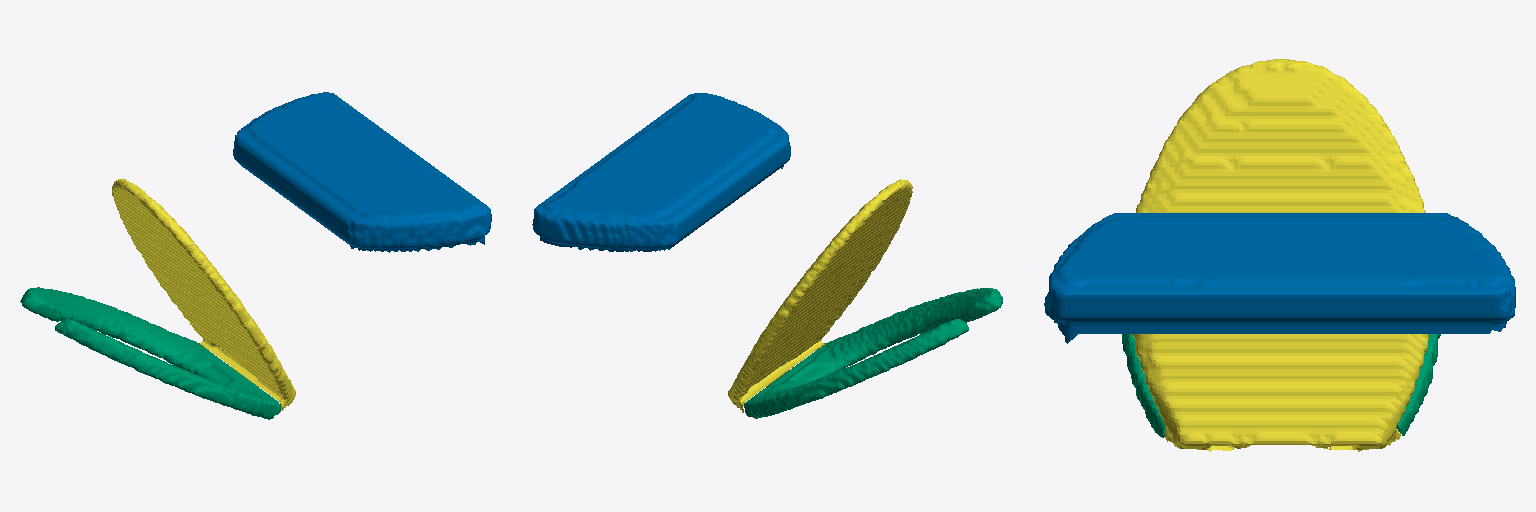
robot.urdf — object:
<?xml version='1.0' encoding='utf-8'?>
<robot name="object">
  <link name="base">
    <inertial>
      <origin xyz="0 0 0" rpy="0 0 0" />
      <mass value="0.0" />
      <inertia ixx="0" ixy="0" ixz="0" iyy="0" iyz="0" izz="0" />
    </inertial>
  </link>
  <link name="link_1">
    <visual>
      <origin xyz="0 0 0" rpy="0 0 0" />
      <geometry>
        <mesh filename="meshes/link_1.stl" />
      </geometry>
    </visual>
    <collision>
      <origin xyz="0 0 0" rpy="0 0 0" />
      <geometry>
        <mesh filename="meshes/link_1.stl" />
      </geometry>
    </collision>
    <inertial>
      <origin xyz="0.0679376867 0.00297495771 -0.0174413585" rpy="0 0 0" />
      <mass value="411.995997" />
      <inertia ixx="77.7488634" ixy="-0.0692758181" ixz="-46.1805513" iyy="131.882674" iyz="-0.112178406" izz="86.9368796" />
    </inertial>
  </link>
  <link name="link_2">
    <visual>
      <origin xyz="-0.0423056701 0.000213782705 -0.0876036963" rpy="0 0 0" />
      <geometry>
        <mesh filename="meshes/link_2.stl" />
      </geometry>
    </visual>
    <collision>
      <origin xyz="-0.0423056701 0.000213782705 -0.0876036963" rpy="0 0 0" />
      <geometry>
        <mesh filename="meshes/link_2.stl" />
      </geometry>
    </collision>
    <inertial>
      <origin xyz="-0.359364826 0.00479776968 0.17011146" rpy="0 0 0" />
      <mass value="11.7321902" />
      <inertia ixx="0.812622318" ixy="-0.00121796596" ixz="0.355917072" iyy="0.785989238" iyz="0.00170550107" izz="1.2086571" />
    </inertial>
  </link>
  <link name="link_3">
    <visual>
      <origin xyz="-0.0700806833 -0.00585808732 -0.0880001275" rpy="0 0 0" />
      <geometry>
        <mesh filename="meshes/link_3.stl" />
      </geometry>
    </visual>
    <collision>
      <origin xyz="-0.0700806833 -0.00585808732 -0.0880001275" rpy="0 0 0" />
      <geometry>
        <mesh filename="meshes/link_3.stl" />
      </geometry>
    </collision>
    <inertial>
      <origin xyz="-0.186050777 -8.34069037e-05 0.327565965" rpy="0 0 0" />
      <mass value="23.035374" />
      <inertia ixx="0.246236957" ixy="-0.000484243372" ixz="-0.00469277478" iyy="-0.0433521147" iyz="0.009349146" izz="0.934786138" />
    </inertial>
  </link>
  <link name="link_4">
    <visual>
      <origin xyz="-0.426424517 0.000165591769 -0.618794232" rpy="0 0 0" />
      <geometry>
        <mesh filename="meshes/link_4.stl" />
      </geometry>
    </visual>
    <collision>
      <origin xyz="-0.426424517 0.000165591769 -0.618794232" rpy="0 0 0" />
      <geometry>
        <mesh filename="meshes/link_4.stl" />
      </geometry>
    </collision>
    <inertial>
      <origin xyz="-0.0279613447 0.00375537023 2.83223144" rpy="0 0 0" />
      <mass value="49.3769836" />
      <inertia ixx="-183465.905" ixy="0.0120543716" ixz="4.81793815" iyy="-183468.478" iyz="1.46445279" izz="3.76805256" />
    </inertial>
  </link>
  <joint name="joint_1_2" type="revolute">
    <parent link="link_1" />
    <child link="link_2" />
    <origin xyz="0.0423056701 -0.000213782705 0.0876036963" rpy="0 0 0" />
    <axis xyz="-0.0159254864 -0.999150903 -0.0379980429" />
    <limit lower="-1.57" upper="1.57" effort="10.0" velocity="1.0" />
  </joint>
  <joint name="joint_1_3" type="revolute">
    <parent link="link_1" />
    <child link="link_3" />
    <origin xyz="0.0700806833 0.00585808732 0.0880001275" rpy="0 0 0" />
    <axis xyz="-0.0159254864 -0.999150903 -0.0379980429" />
    <limit lower="-1.57" upper="1.57" effort="10.0" velocity="1.0" />
  </joint>
  <joint name="joint_1_4" type="prismatic">
    <parent link="link_1" />
    <child link="link_4" />
    <origin xyz="0.426424517 -0.000165591769 0.618794232" rpy="0 0 0" />
    <axis xyz="-0.0222161061 0.00106128673 -0.999752629" />
    <limit lower="-1.57" upper="1.57" effort="10.0" velocity="1.0" />
  </joint>
  <joint name="base_to_1" type="fixed">
    <parent link="base" />
    <child link="link_1" />
    <origin xyz="0 0 0" rpy="0 0 0" />
  </joint>
</robot>

--- Facts derived from the render (not from the file) ---
The picture shows the robot from 3 angles, left to right: view 1: azimuth 30°, elevation 25°; view 2: azimuth 150°, elevation 25°; view 3: azimuth 270°, elevation 25°; orthographic projection.
Robot: object — 5 links, 4 joints (2 revolute, 1 prismatic, 1 fixed); root link base; default pose: every joint at zero.
Visible links, largest first — view 1: link_4, link_3, link_2; view 2: link_4, link_3, link_2; view 3: link_3, link_4, link_2.
Boxes of the visible links, x1=… form: link_4: x1=233, y1=92, x2=491, y2=252; link_3: x1=112, y1=179, x2=295, y2=410; link_2: x1=20, y1=287, x2=280, y2=419; link_4: x1=532, y1=93, x2=790, y2=251; link_3: x1=728, y1=179, x2=912, y2=412; link_2: x1=744, y1=288, x2=1002, y2=418; link_3: x1=1132, y1=59, x2=1428, y2=451; link_4: x1=1044, y1=213, x2=1515, y2=343; link_2: x1=1122, y1=334, x2=1440, y2=437.
Size in the robot's own frame: 1.32 by 1.03 by 0.7489 metres.
3 mesh visuals loaded from 4 distinct referenced files (3 binary STL); not drawn: 1 (reference not matched to a file when rendering).
